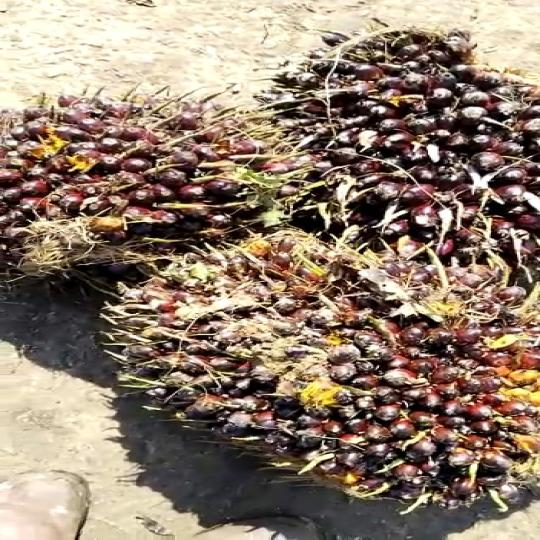kurang masak: (117, 233, 540, 505), (0, 80, 293, 322), (255, 25, 540, 263)
